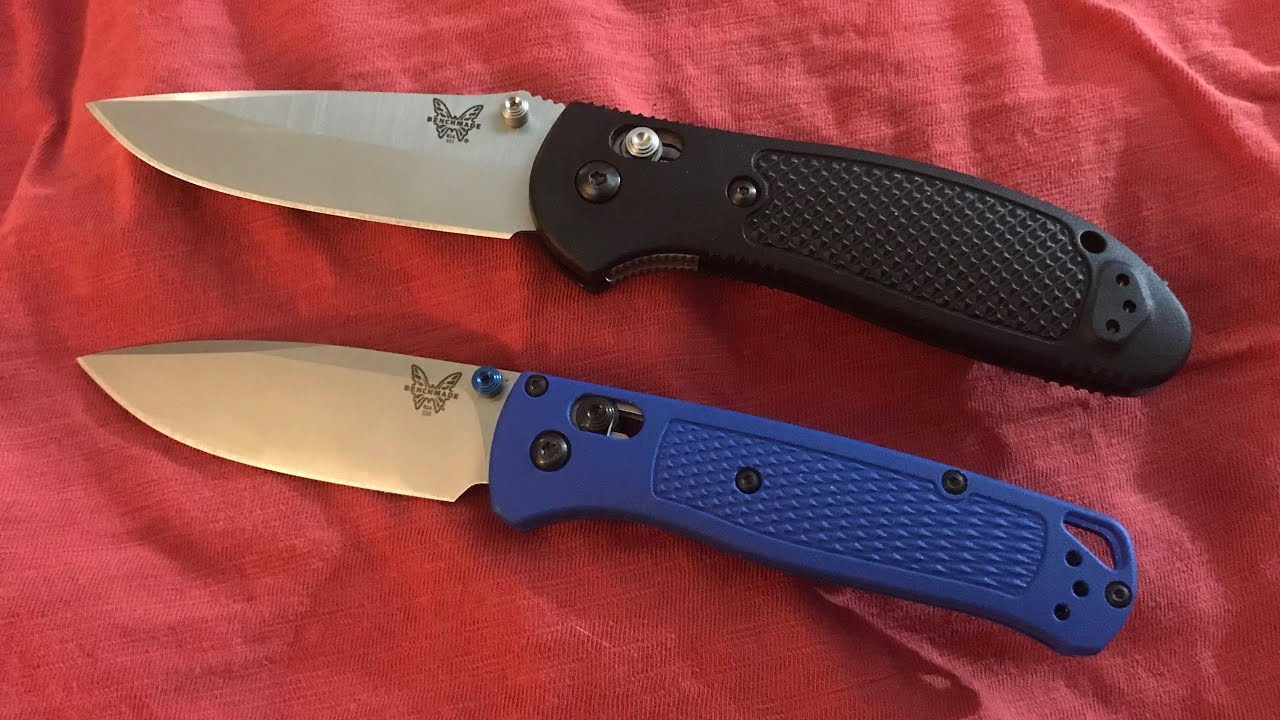knife: (69, 333, 1141, 663), (81, 86, 1196, 400)
